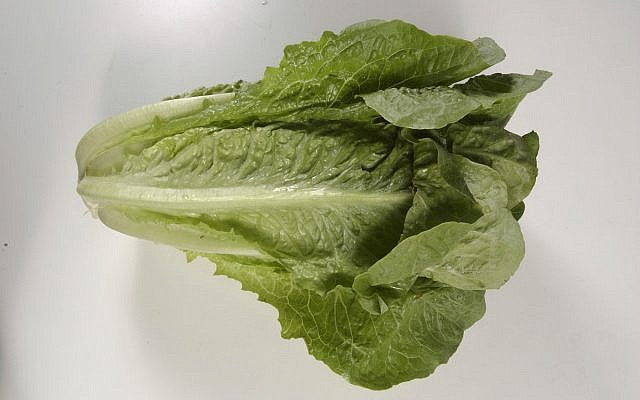chopped lettuce: (121, 53, 531, 322)
